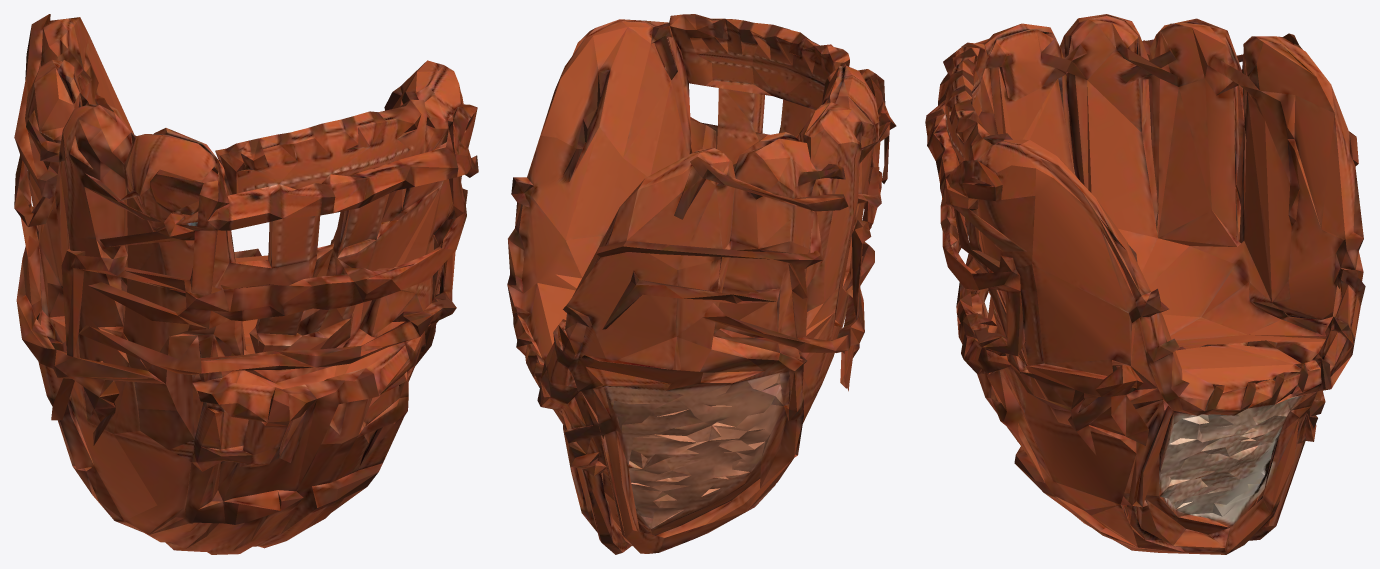
The model's file is glove.glb.
3 renders of one model, left to right at view 1: azimuth 30°, elevation 25°; view 2: azimuth 150°, elevation 25°; view 3: azimuth 270°, elevation 25°, orthographic. The views are drawn at different scales.
Visible parts, largest first — view 1: output_unwrapped; view 2: output_unwrapped; view 3: output_unwrapped.
Boxes of the visible parts, left/top/right/bottom form: output_unwrapped: left=14, top=14, right=478, bottom=554; output_unwrapped: left=507, top=14, right=896, bottom=554; output_unwrapped: left=925, top=14, right=1365, bottom=554.
Size of the model in its own units: 1.57 by 1.9 by 1.65.
Materials: 1 (1 with a texture image).
